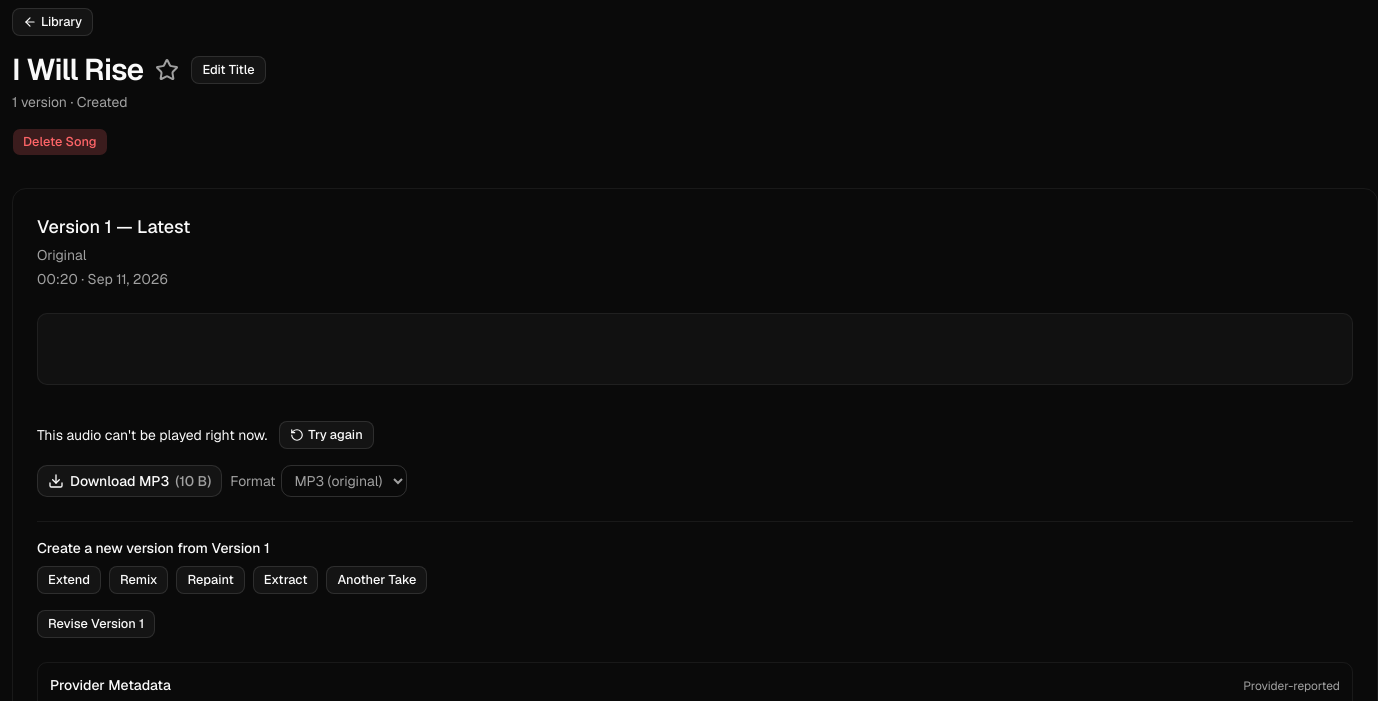
Test case: Version actions › Extend posts the chosen length to the extend endpoint and shows Creating Version 2
Click the button "Extend" at (69, 580), box [37,566,101,594]
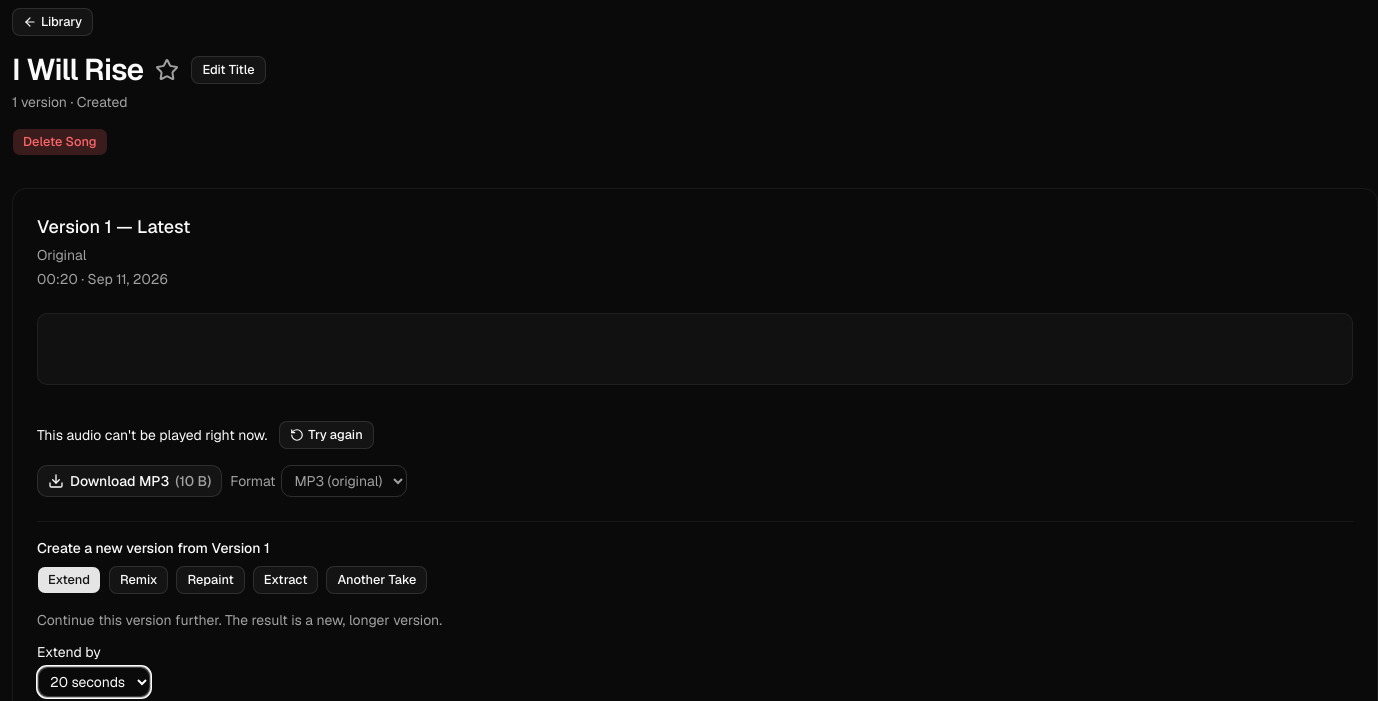
Select "30 seconds" in the dropdown labelled "Extend by" at (94, 682), box [37,666,151,698]
(page scrolled)
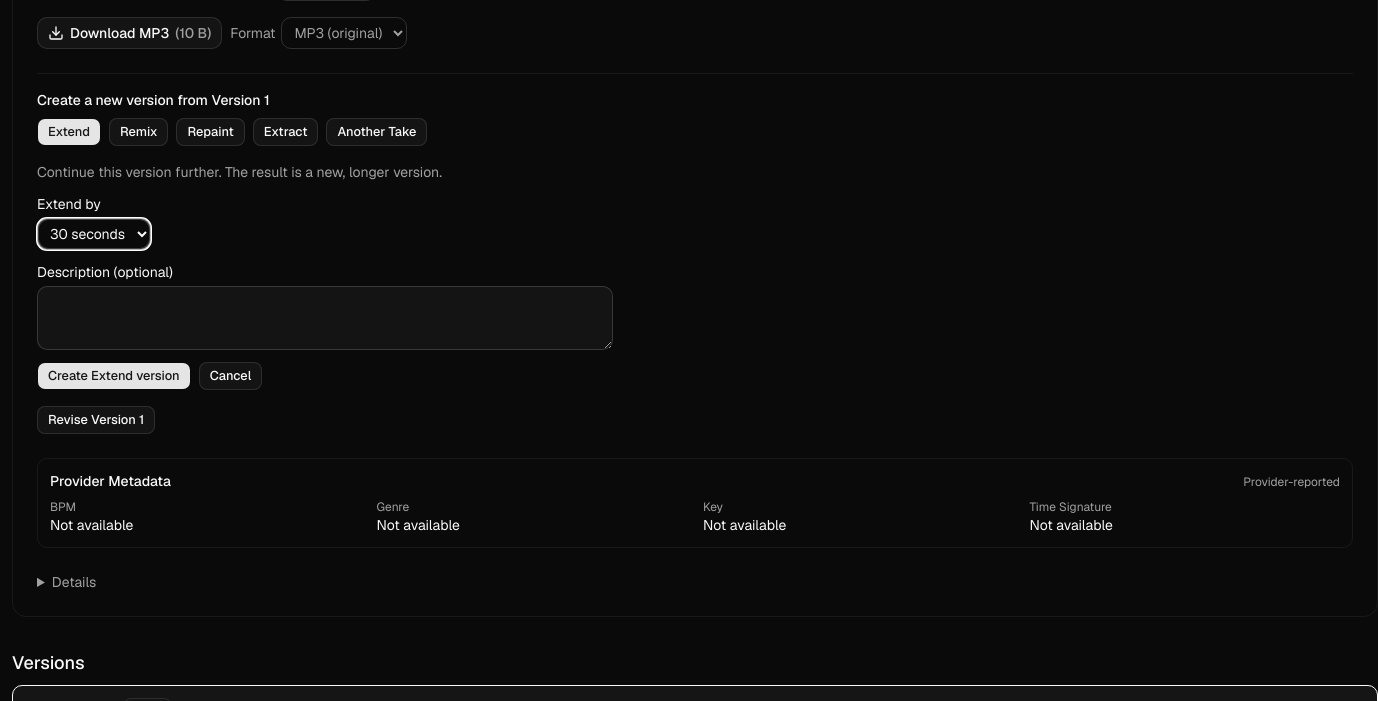
Click the button "Create Extend version" at (114, 376), box [37,362,191,390]
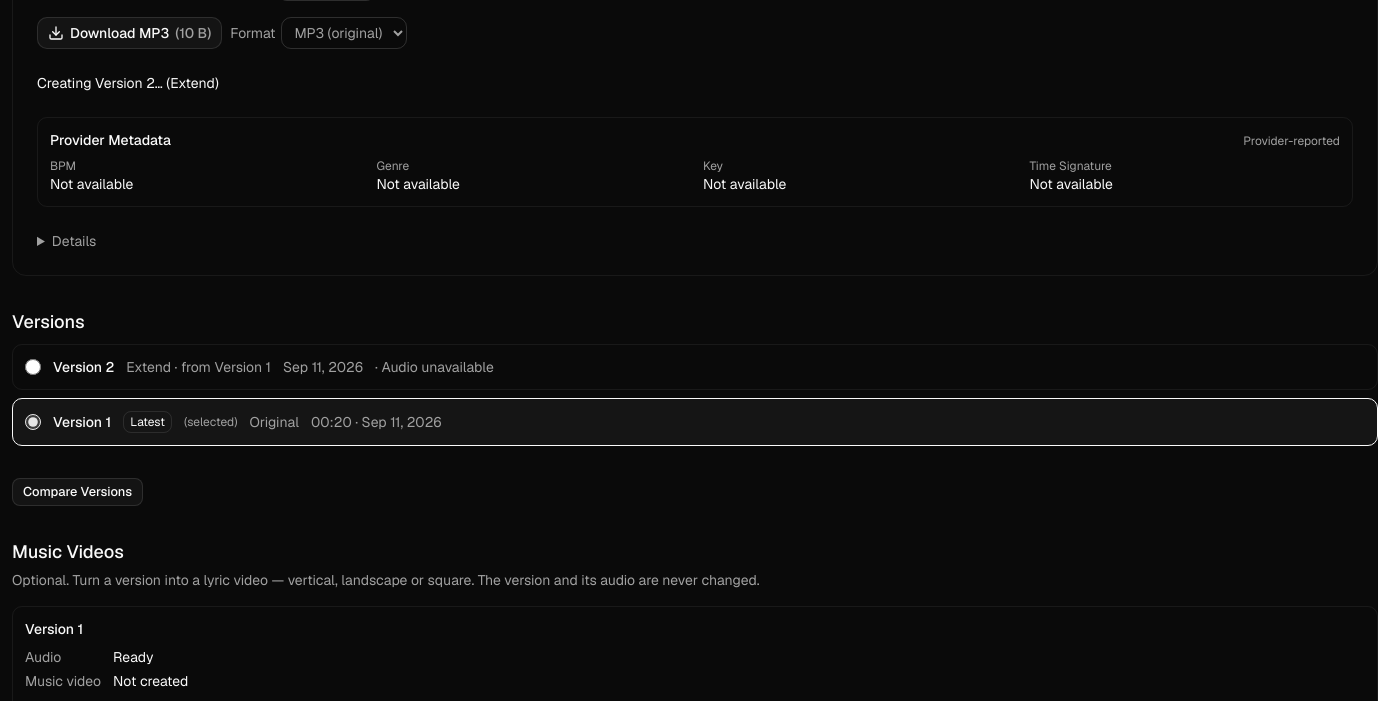
Check: the message with test id "version-pending" shows "Creating Version 2", box [37,74,219,92]
Check: the element with test id "version-actions" is gone
Check: the number of labels with test id "version-option" is 2, box [12,344,1377,390]; [12,398,1377,446]
